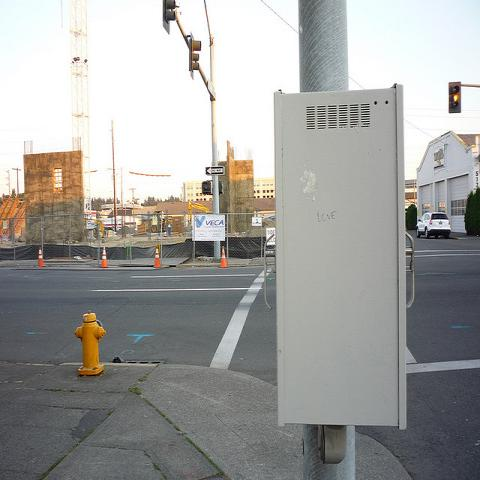car: (416, 212, 452, 238)
